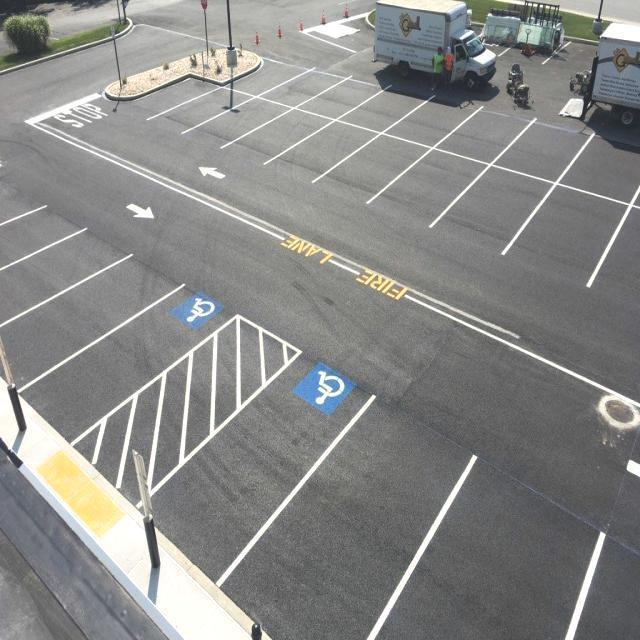space-empty: (204, 390, 478, 640), (139, 345, 387, 596), (354, 448, 631, 640), (0, 242, 192, 393), (0, 223, 137, 346), (496, 175, 636, 289), (424, 158, 560, 260), (516, 533, 636, 638), (361, 143, 494, 233), (305, 129, 433, 209), (260, 114, 386, 186), (0, 202, 83, 302), (487, 117, 594, 191), (217, 106, 340, 168), (583, 196, 640, 314), (553, 132, 638, 208), (177, 97, 290, 151), (149, 85, 252, 135)
